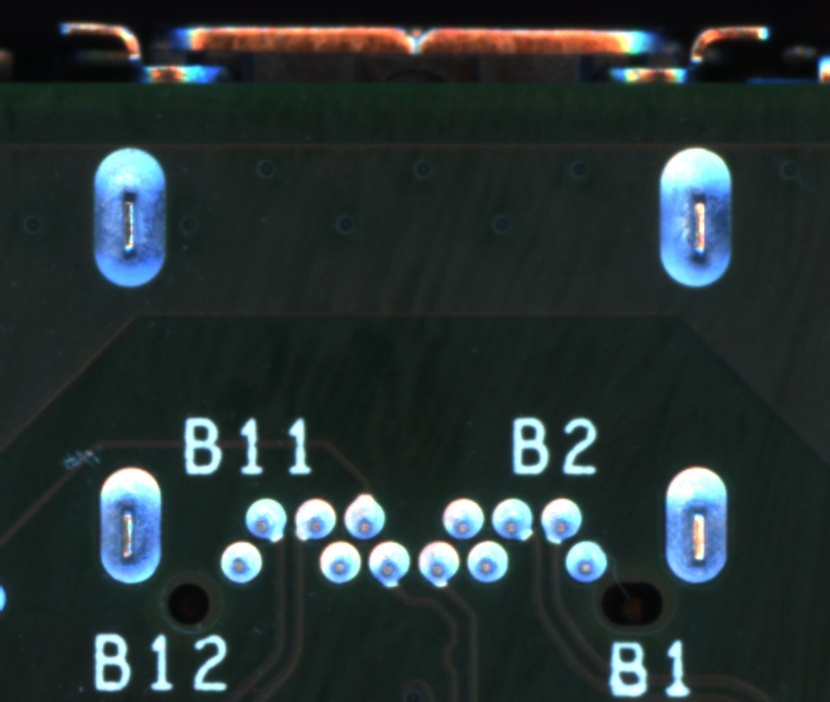SOLDER: (218, 539, 267, 588), (316, 540, 365, 589), (365, 540, 414, 589), (413, 538, 462, 587), (437, 493, 486, 542), (339, 492, 388, 541), (241, 495, 290, 544), (561, 537, 610, 585), (464, 537, 512, 586), (535, 495, 583, 544), (487, 494, 535, 543), (290, 494, 338, 543)
SOLDER2: (82, 143, 173, 296), (87, 447, 177, 599), (654, 448, 744, 600), (649, 140, 739, 292)
STAN: (41, 434, 103, 473)
